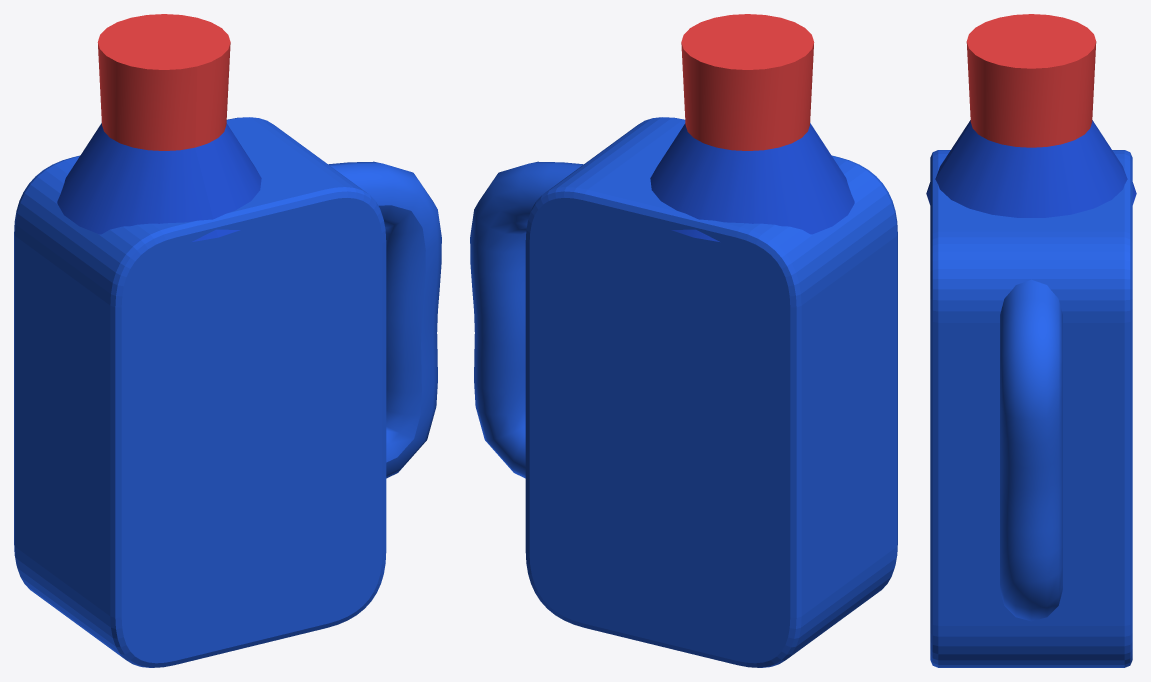
The model's file is detergent-jug.glb.
3 views of the same model, side by side, from view 1: azimuth 30°, elevation 25°; view 2: azimuth 150°, elevation 25°; view 3: azimuth 270°, elevation 25° (orthographic). The views are drawn at different scales.
Visible parts, largest first — view 1: Jug_Body, Measuring_Cap, Detergent_D_Handle, Jug_Shoulder; view 2: Jug_Body, Measuring_Cap, Detergent_D_Handle, Jug_Shoulder; view 3: Jug_Body, Detergent_D_Handle, Measuring_Cap, Jug_Shoulder.
Boxes of the visible parts, x1=… form: Jug_Body: x1=14, y1=117, x2=386, y2=667; Measuring_Cap: x1=97, y1=14, x2=230, y2=150; Detergent_D_Handle: x1=328, y1=161, x2=441, y2=478; Jug_Shoulder: x1=57, y1=123, x2=261, y2=241; Jug_Body: x1=525, y1=117, x2=897, y2=667; Measuring_Cap: x1=681, y1=14, x2=814, y2=150; Detergent_D_Handle: x1=470, y1=161, x2=583, y2=478; Jug_Shoulder: x1=650, y1=123, x2=854, y2=241; Jug_Body: x1=930, y1=150, x2=1132, y2=667; Detergent_D_Handle: x1=1000, y1=279, x2=1062, y2=621; Measuring_Cap: x1=966, y1=14, x2=1096, y2=147; Jug_Shoulder: x1=926, y1=120, x2=1136, y2=217.
Bounding box in the file's own units: 0.2086 × 0.3075 × 0.104.
